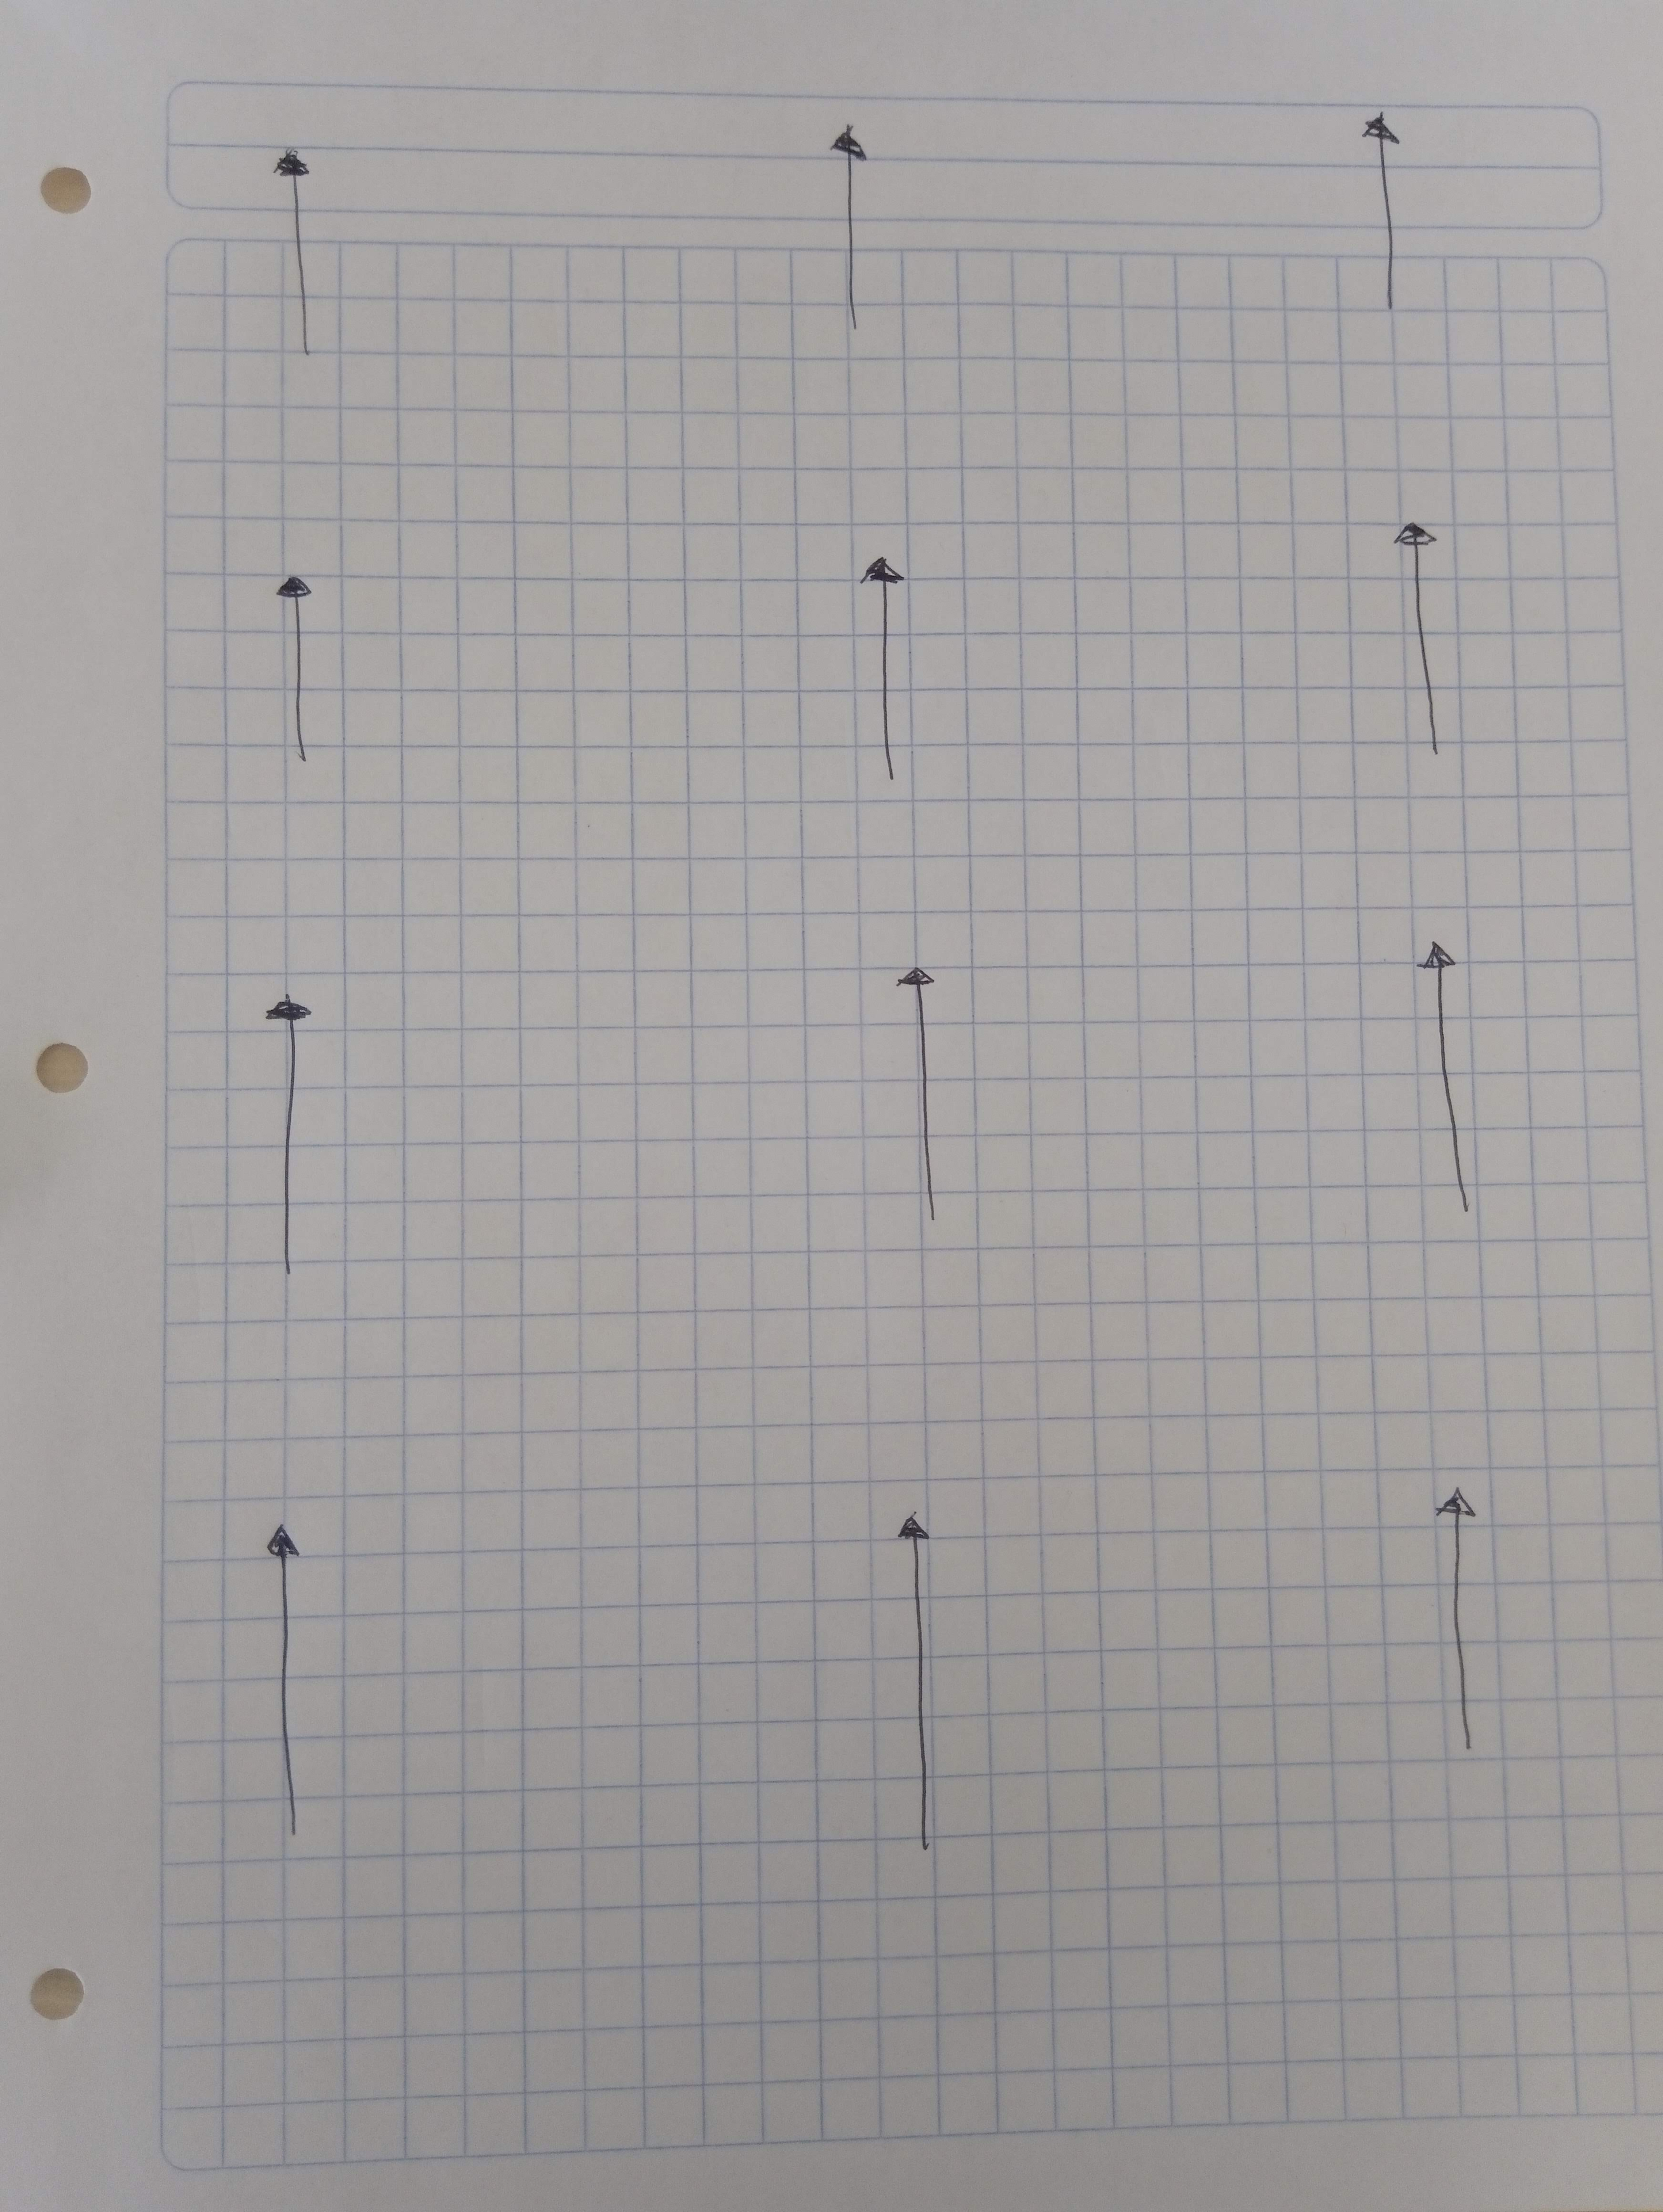arrow_line_up: (870, 1484, 990, 1891), (1378, 484, 1509, 794), (1417, 1449, 1522, 1795), (253, 985, 355, 1337), (250, 1503, 339, 1865), (870, 957, 978, 1252), (831, 531, 943, 794), (1420, 927, 1495, 1240), (246, 124, 335, 365), (1336, 96, 1432, 311), (812, 133, 898, 360), (273, 531, 328, 784)
